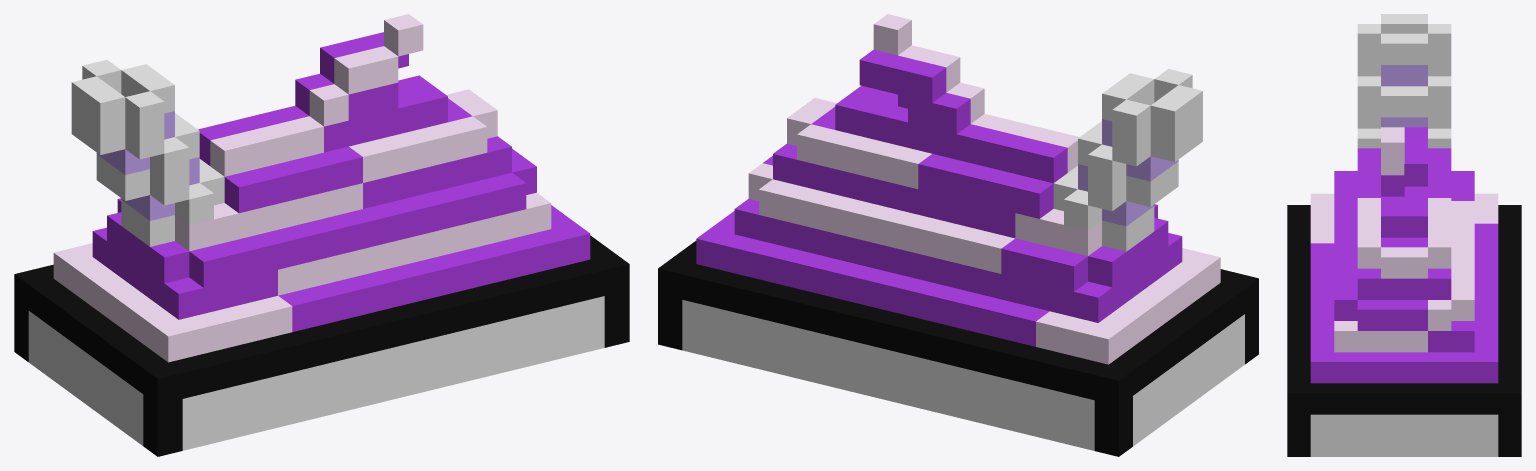
The model's file is accessories_head_skurpy.glb.
3 renders of one model, left to right at view 1: azimuth 30°, elevation 25°; view 2: azimuth 150°, elevation 25°; view 3: azimuth 270°, elevation 25°, orthographic. The views are drawn at different scales.
Visible parts, largest first — view 1: model_0; view 2: model_0; view 3: model_0.
Part boxes in pixels (bbox=[...]): model_0: bbox=[14, 14, 629, 456]; model_0: bbox=[658, 14, 1258, 456]; model_0: bbox=[1287, 14, 1521, 456].
Bounding box in the file's own units: 19 × 12 × 10.
